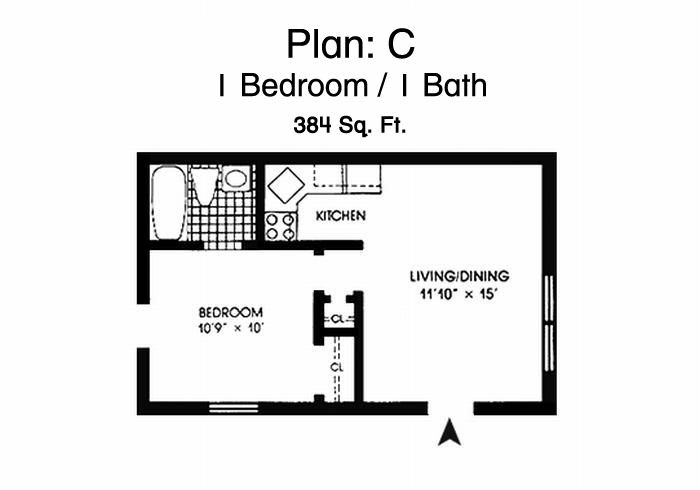room: (130, 137, 559, 420)
wall: (136, 146, 560, 168), (258, 395, 428, 417), (136, 157, 156, 309), (241, 232, 365, 252), (541, 168, 558, 269), (475, 396, 542, 421), (353, 294, 368, 405), (137, 395, 209, 417), (251, 166, 273, 236), (306, 284, 330, 346), (136, 345, 154, 418), (141, 238, 210, 256), (541, 371, 558, 416), (318, 327, 358, 340)
window: (541, 270, 558, 371), (205, 397, 260, 418)
